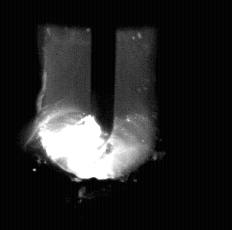arame: (91, 0, 115, 151)
poca: (37, 0, 155, 230)
